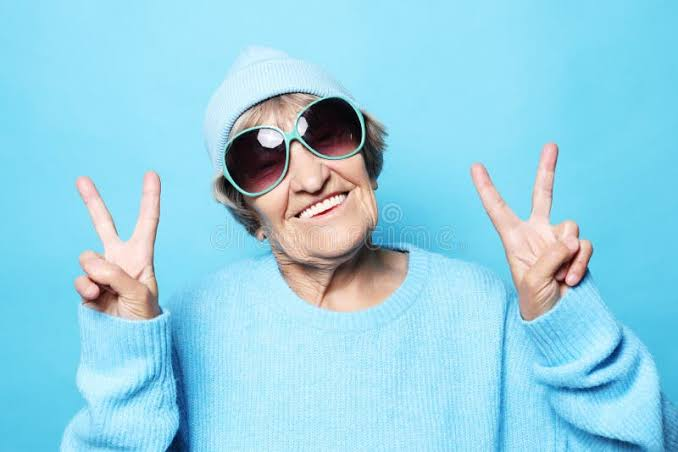peace_sign: (67, 157, 165, 312)
